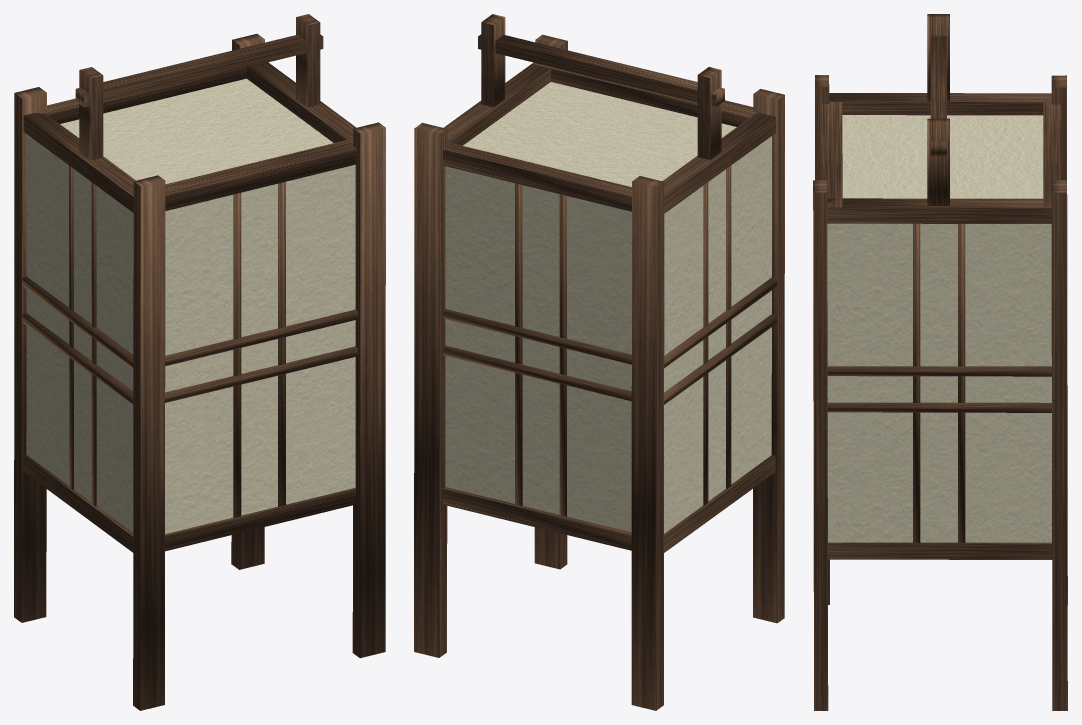
The model's file is Lamp3.a.fbx.
3 renders of one model, left to right at view 1: azimuth 30°, elevation 25°; view 2: azimuth 150°, elevation 25°; view 3: azimuth 270°, elevation 25°, orthographic.
Parts seen in each view (by area): view 1: Group 0; view 2: Group 0; view 3: Group 0.
Boxes of the visible parts, x1,y1,x2,y2 form: Group 0: [14, 14, 385, 710]; Group 0: [414, 14, 784, 710]; Group 0: [813, 14, 1067, 710].
Bounding box in the file's own units: 30.95 × 71.4 × 28.3.
Materials: 1 (1 with a texture image).
